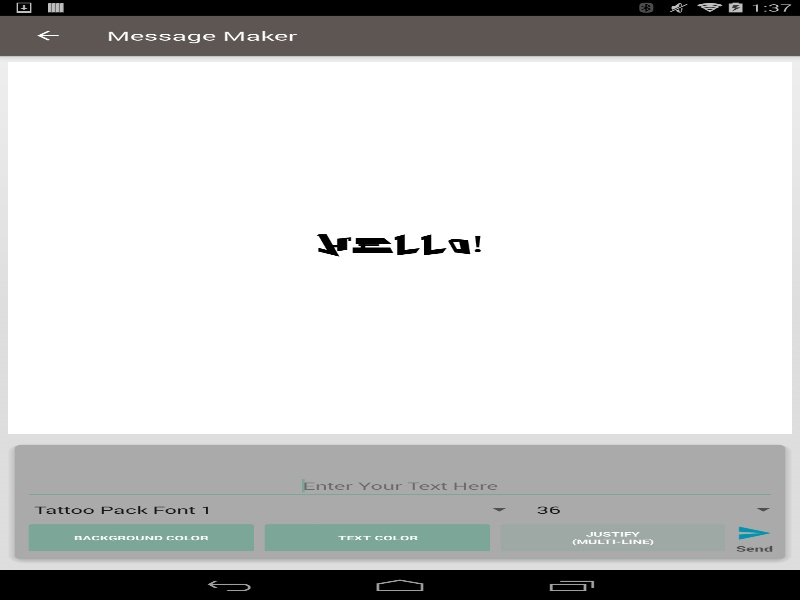Button: (23, 520, 259, 555), (259, 520, 495, 555), (495, 520, 730, 555), (10, 15, 85, 55)
Input: (23, 449, 776, 499)
